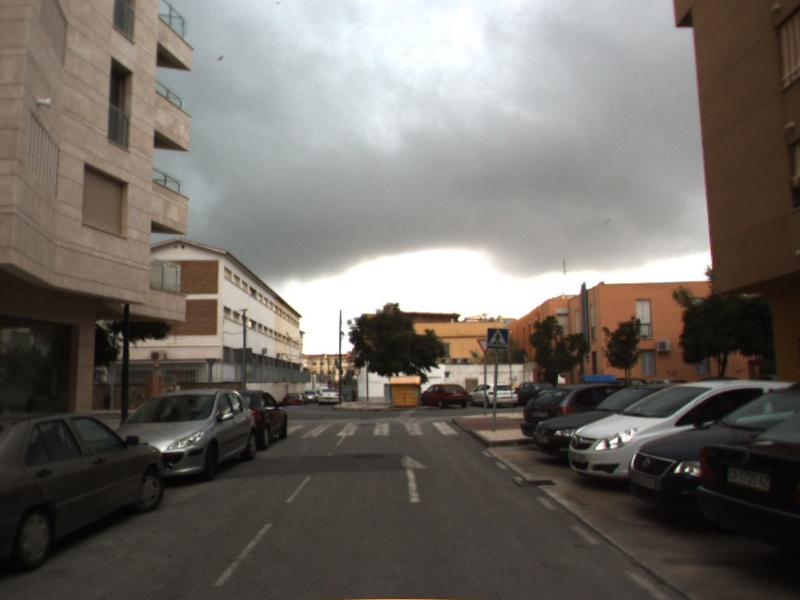STRAIGHT: (399, 453, 430, 504)
